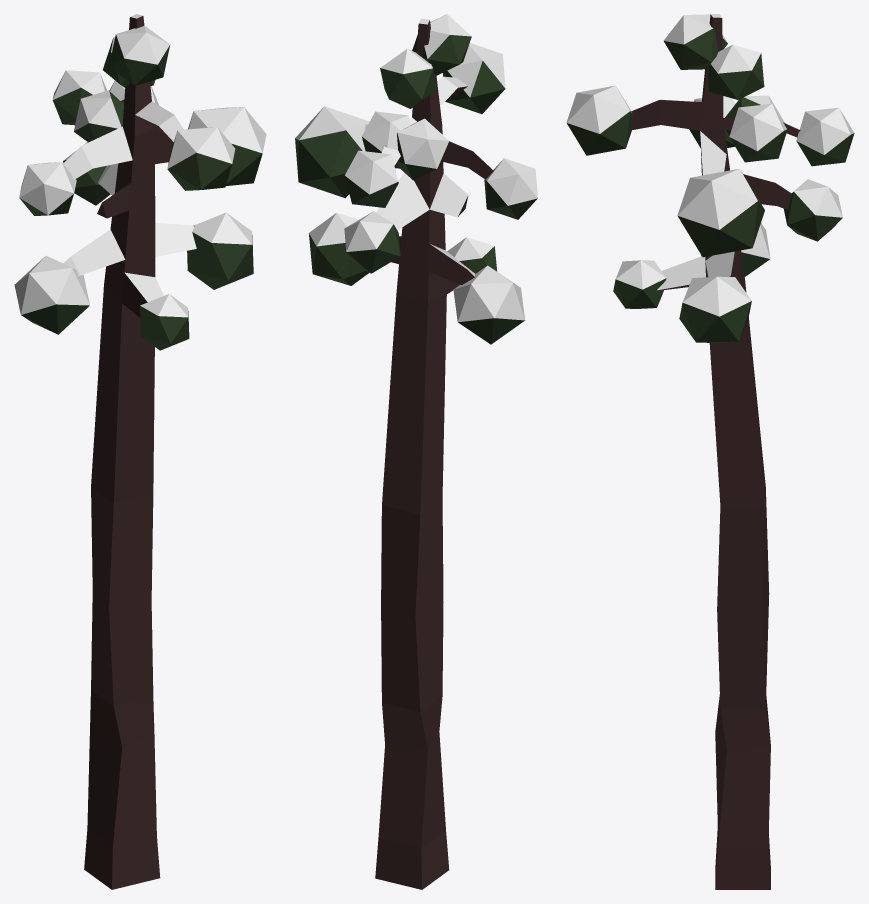
Rendered from winter_tree_3.fbx.
The picture shows the model from 3 angles, left to right: view 1: azimuth 30°, elevation 25°; view 2: azimuth 150°, elevation 25°; view 3: azimuth 270°, elevation 25°; orthographic projection. The views are drawn at different scales.
Parts seen in each view (by area): view 1: winter_tree_3_LOD0; view 2: winter_tree_3_LOD0; view 3: winter_tree_3_LOD0.
Part boxes in pixels (x1,y1,x2,y2): winter_tree_3_LOD0: [14, 14, 266, 889]; winter_tree_3_LOD0: [295, 14, 537, 889]; winter_tree_3_LOD0: [566, 14, 854, 889].
Size of what is drawn, in the model's own units: 598 by 1996 by 603.
